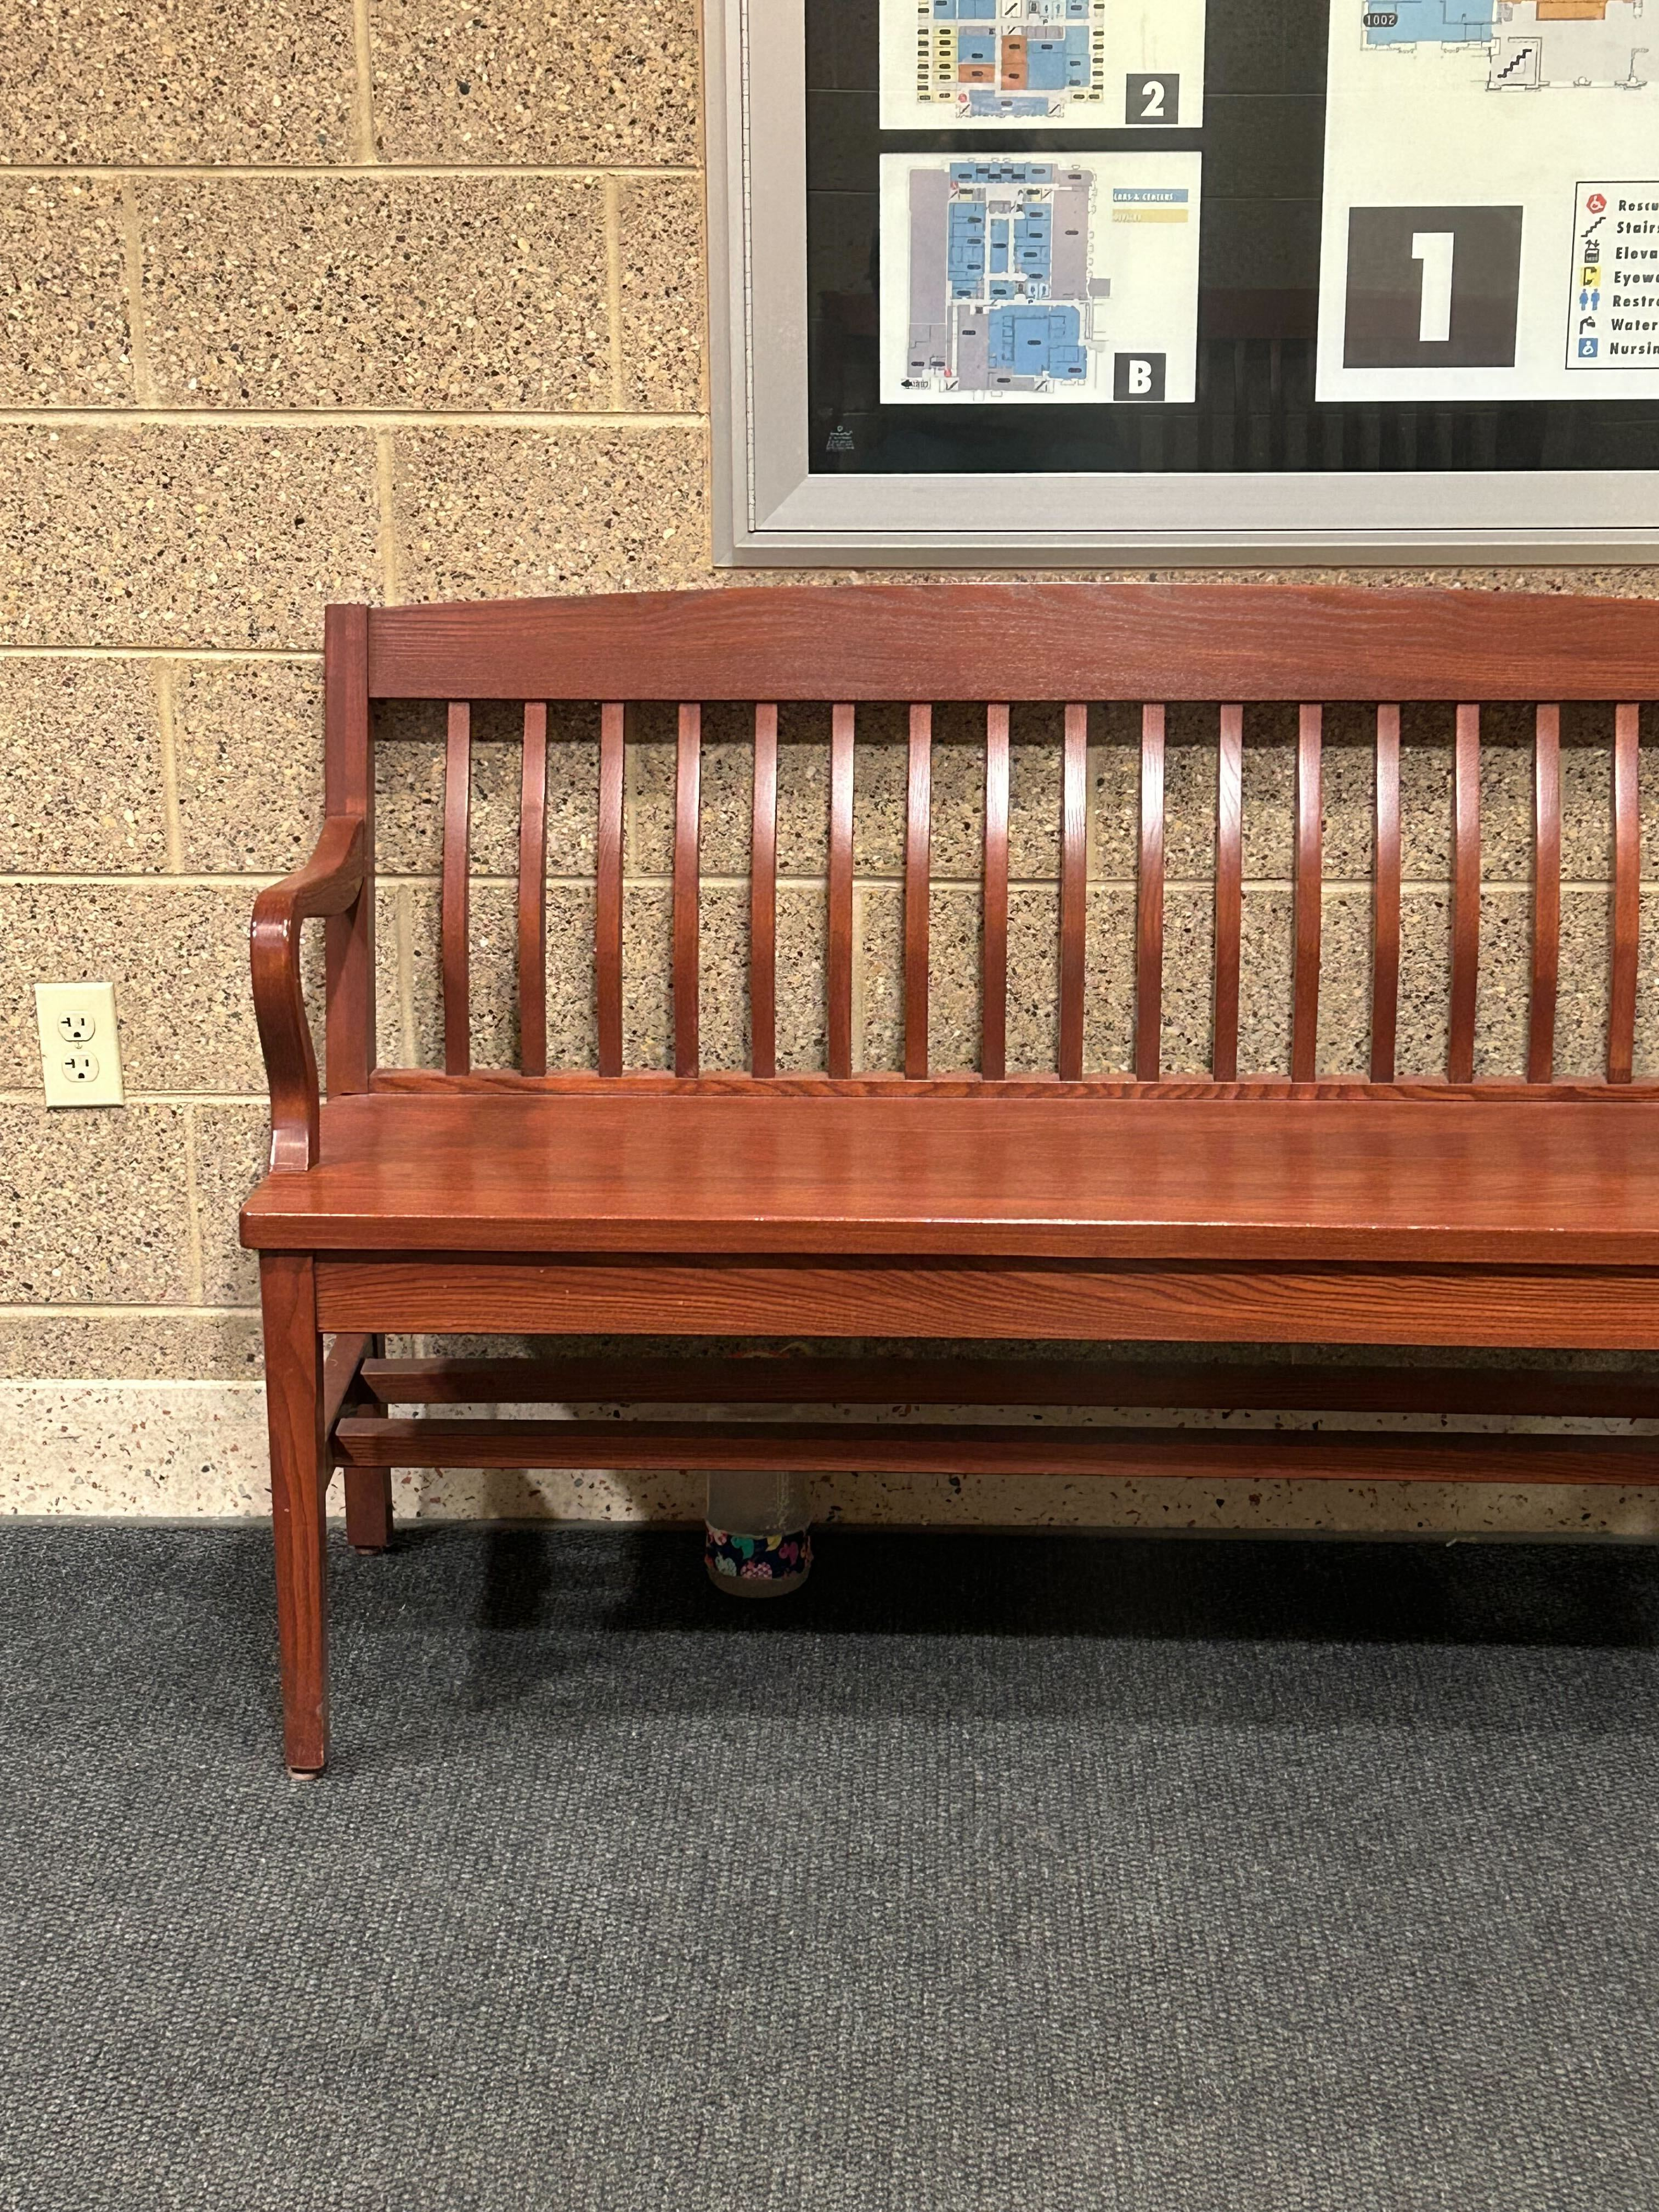bottle: (699, 1325, 819, 1599)
